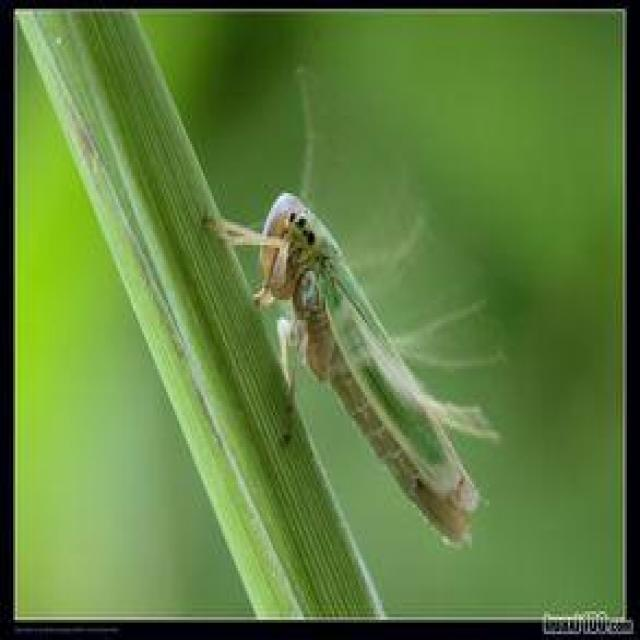green leaf hopper: (206, 193, 496, 542)
